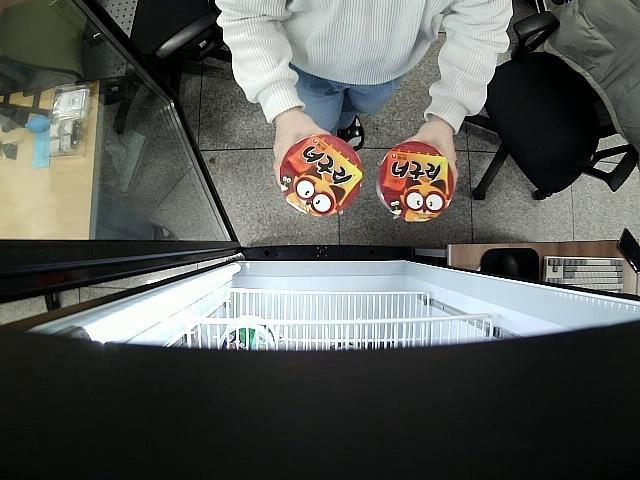05_nuguri_L: (279, 134, 362, 218), (376, 141, 454, 223)
